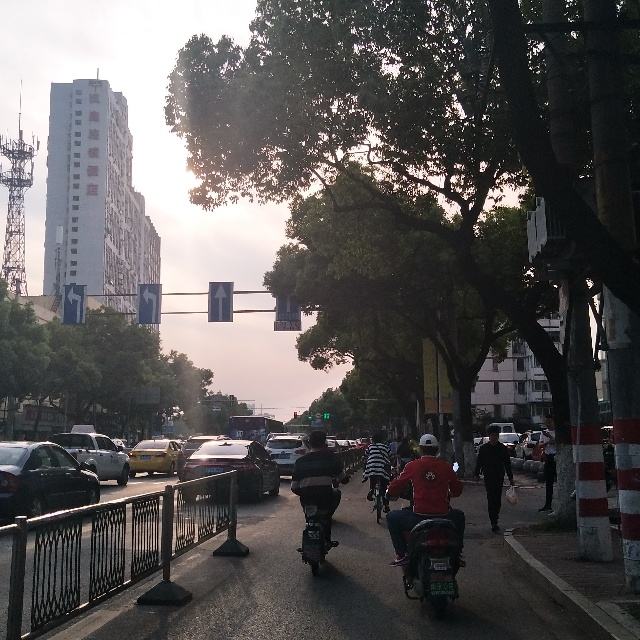left: (137, 282, 160, 324), (65, 282, 85, 322)
straight: (277, 281, 304, 317), (207, 282, 231, 322)
